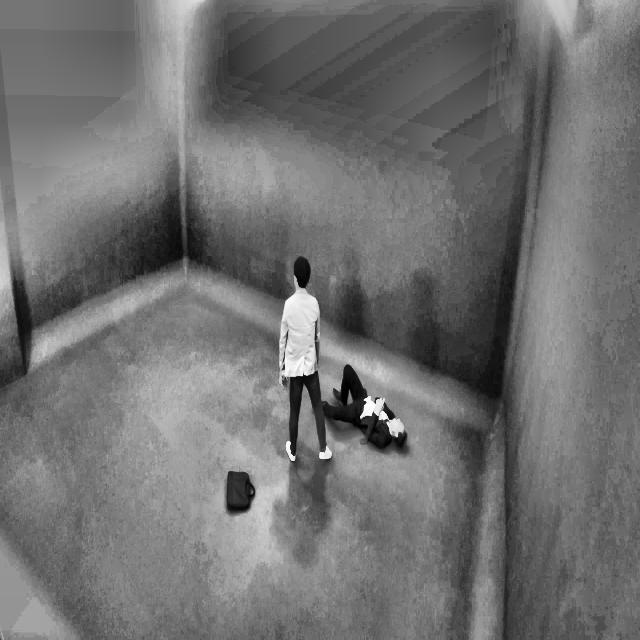assult: (276, 240, 416, 475), (327, 360, 408, 449)
